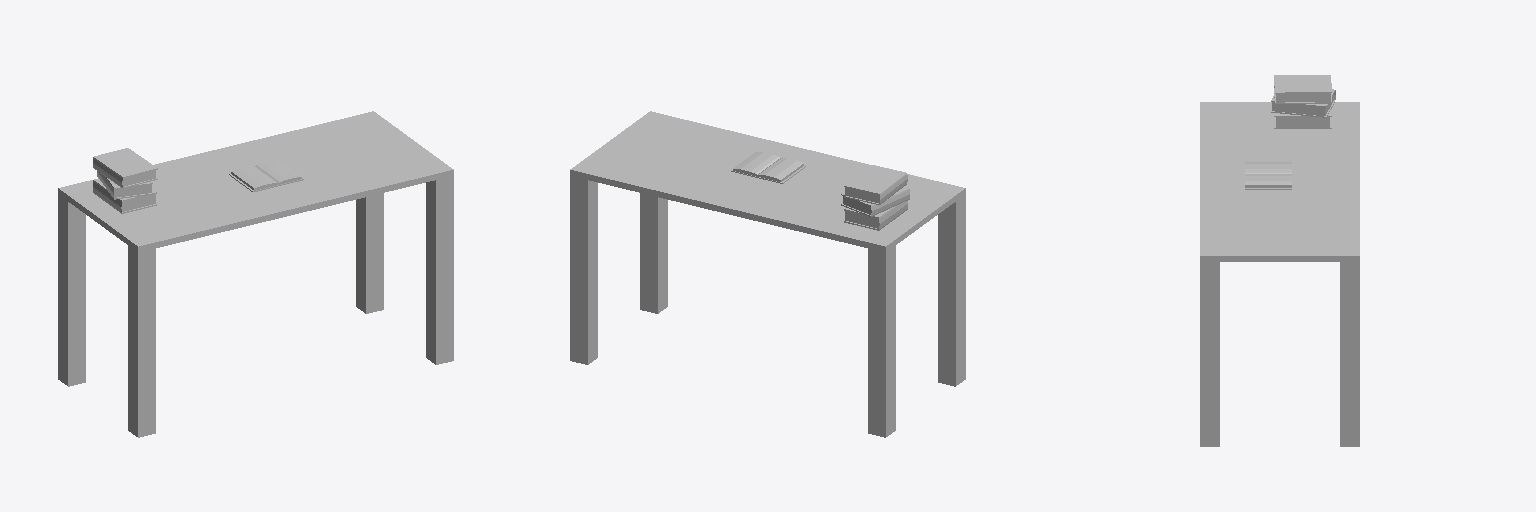
File: stolKsiazki.obj
3 views of the same model, side by side, from view 1: azimuth 30°, elevation 25°; view 2: azimuth 150°, elevation 25°; view 3: azimuth 270°, elevation 25° (orthographic).
Visible parts, largest first — view 1: Ksiazka.003_Cube.009; view 2: Ksiazka.003_Cube.009; view 3: Ksiazka.003_Cube.009.
Boxes of the visible parts, x1,y1,x2,y2 form: Ksiazka.003_Cube.009: [58, 111, 453, 437]; Ksiazka.003_Cube.009: [570, 111, 965, 437]; Ksiazka.003_Cube.009: [1200, 75, 1359, 446].
Bounding box in the file's own units: 3.46 × 2.39 × 1.52.